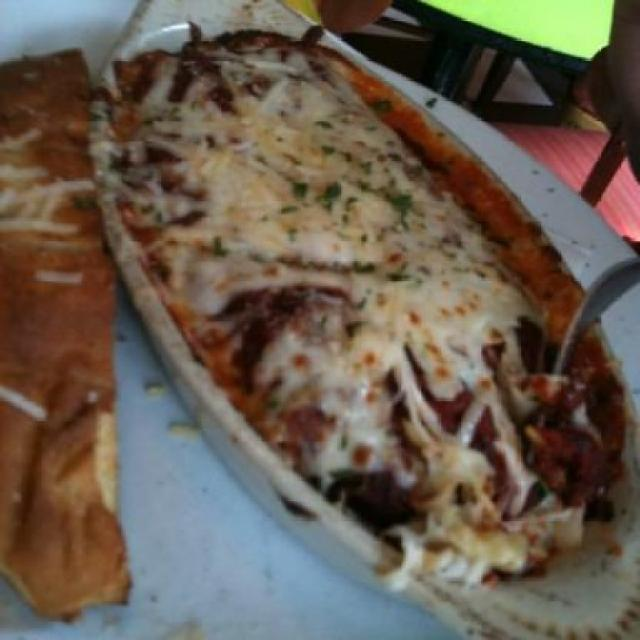Lasagna: (154, 60, 572, 538)
